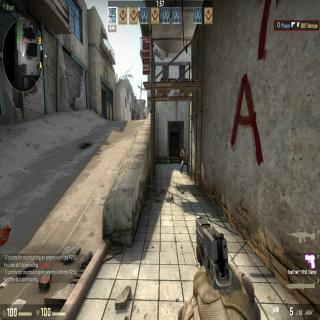T-Body: (180, 147, 189, 173)
T-Head: (183, 146, 186, 152)
